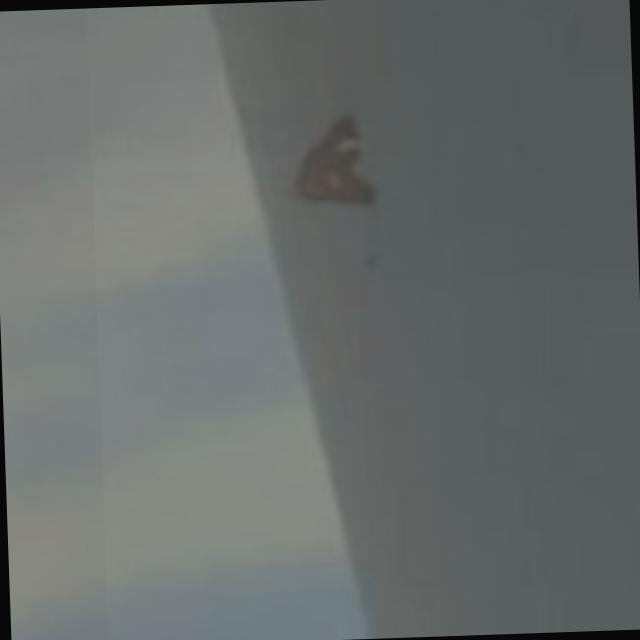surface_peeling: (288, 111, 379, 212)
